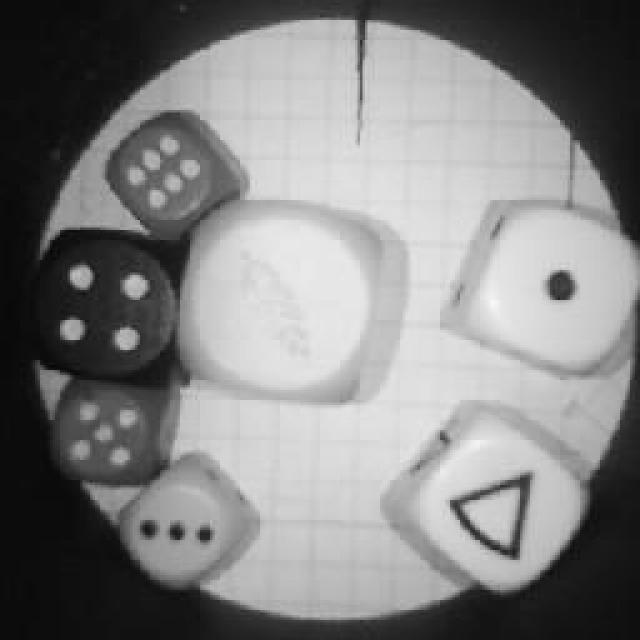dice_3: (105, 447, 263, 605)
dice_4: (28, 228, 200, 392)
dice_5: (50, 368, 178, 488)
dice_6: (105, 105, 240, 243)
